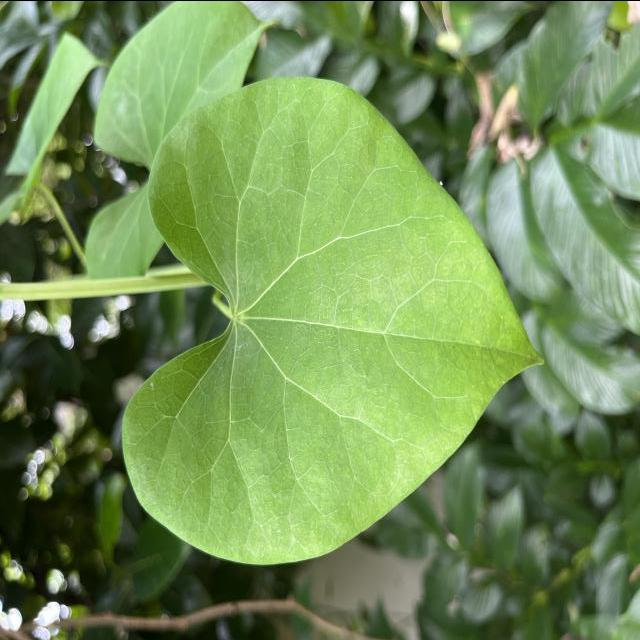Tinospora cordifolia: (116, 70, 549, 568)
